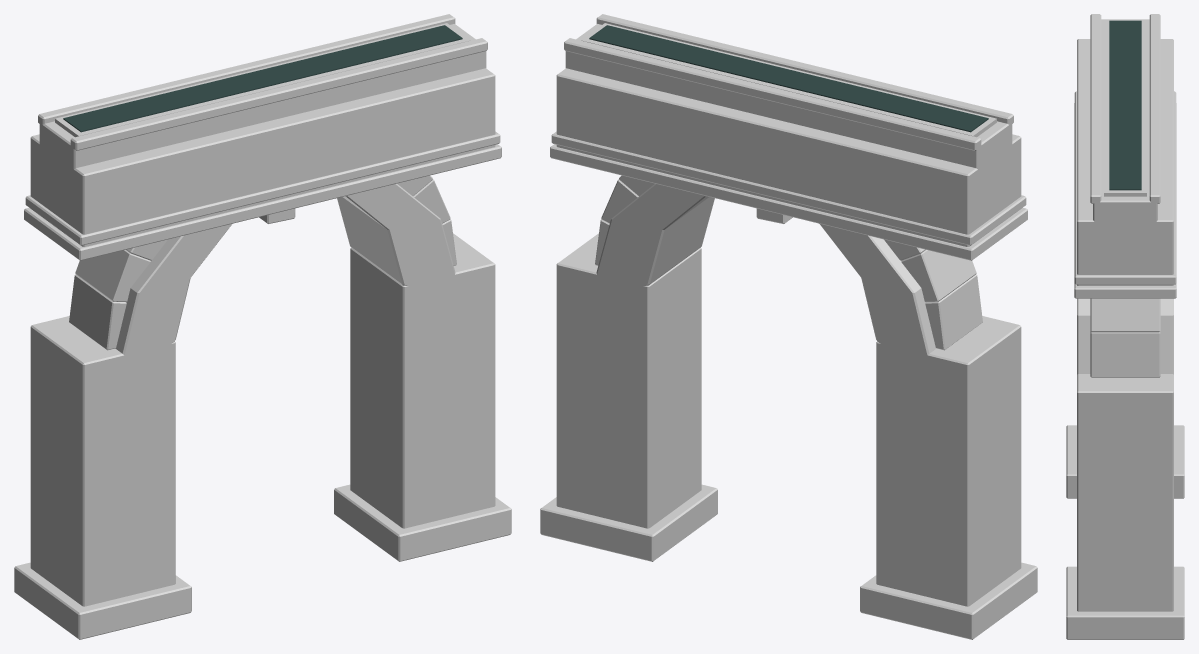
Rendered from Aqueduct_01.fbx.
The picture shows the model from 3 angles, left to right: view 1: azimuth 30°, elevation 25°; view 2: azimuth 150°, elevation 25°; view 3: azimuth 270°, elevation 25°; orthographic projection. The views are drawn at different scales.
Parts seen in each view (by area): view 1: AQ_Pier_L, AQ_Pier_R, AQ_UpperMass, AQ_Arch, AQ_Channel, AQ_Water, Voussoir, AQ_Course_01, AQ_Channel_Lip_02, AQ_Foundation_L, AQ_Foundation_R, AQ_Course_02 (+2 smaller); view 2: AQ_Pier_L, AQ_Pier_R, AQ_UpperMass, AQ_Arch, AQ_Channel, AQ_Water, Voussoir, AQ_Course_01, AQ_Channel_Lip_01, AQ_Foundation_L, AQ_Foundation_R, AQ_Course_02 (+2 smaller); view 3: AQ_Pier_R, AQ_UpperMass, Voussoir, AQ_Water, AQ_Foundation_R, AQ_Channel, AQ_Channel_Interior, AQ_Channel_Lip_01, AQ_Channel_Lip_02, AQ_Arch, AQ_Course_02, AQ_Course_01 (+1 smaller).
Boxes of the visible parts, left/top/right/bottom form: AQ_Pier_L: left=30, top=316, right=175, bottom=606; AQ_Pier_R: left=350, top=233, right=495, bottom=528; AQ_UpperMass: left=30, top=68, right=495, bottom=246; AQ_Arch: left=115, top=165, right=462, bottom=386; AQ_Channel: left=39, top=24, right=486, bottom=179; AQ_Water: left=63, top=25, right=462, bottom=132; Voussoir: left=69, top=175, right=456, bottom=350; AQ_Course_01: left=24, top=144, right=501, bottom=260; AQ_Channel_Lip_02: left=70, top=38, right=487, bottom=150; AQ_Foundation_L: left=14, top=562, right=191, bottom=639; AQ_Foundation_R: left=334, top=484, right=511, bottom=561; AQ_Course_02: left=25, top=131, right=500, bottom=245; AQ_Pier_L: left=876, top=316, right=1021, bottom=606; AQ_Pier_R: left=556, top=233, right=701, bottom=528; AQ_UpperMass: left=556, top=68, right=1021, bottom=246; AQ_Arch: left=596, top=166, right=936, bottom=355; AQ_Channel: left=565, top=24, right=1012, bottom=179; AQ_Water: left=589, top=25, right=988, bottom=132; Voussoir: left=595, top=175, right=982, bottom=350; AQ_Course_01: left=550, top=144, right=1027, bottom=260; AQ_Channel_Lip_01: left=564, top=38, right=981, bottom=150; AQ_Foundation_L: left=860, top=562, right=1037, bottom=639; AQ_Foundation_R: left=540, top=484, right=717, bottom=561; AQ_Course_02: left=551, top=131, right=1026, bottom=245; AQ_Pier_R: left=1077, top=374, right=1173, bottom=611; AQ_UpperMass: left=1077, top=39, right=1173, bottom=285; Voussoir: left=1090, top=298, right=1160, bottom=377; AQ_Water: left=1109, top=20, right=1141, bottom=190; AQ_Foundation_R: left=1066, top=566, right=1184, bottom=639; AQ_Channel: left=1093, top=19, right=1157, bottom=231; AQ_Channel_Interior: left=1104, top=19, right=1146, bottom=196; AQ_Channel_Lip_01: left=1149, top=14, right=1160, bottom=203; AQ_Channel_Lip_02: left=1090, top=14, right=1101, bottom=203; AQ_Arch: left=1077, top=298, right=1173, bottom=374; AQ_Course_02: left=1074, top=91, right=1176, bottom=284; AQ_Course_01: left=1074, top=103, right=1176, bottom=298.
Size of the model in its own units: 840 by 901 by 220.
